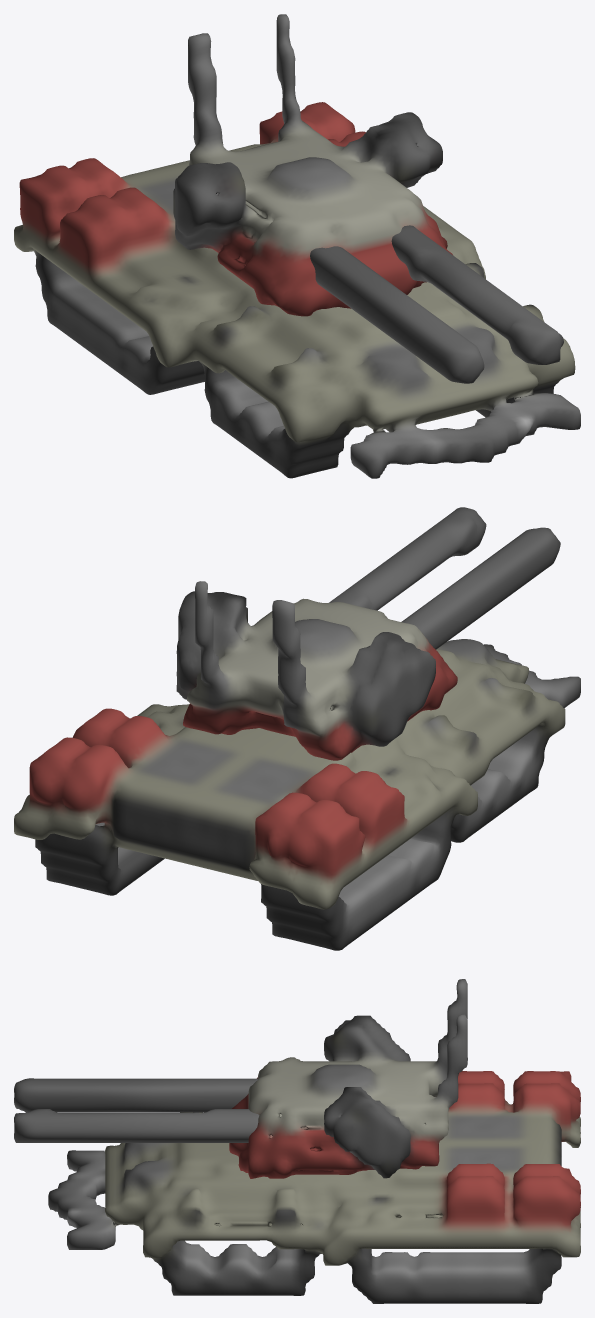
Rendered from apoc.glb.
3 renders of one model, top to bottom at view 1: azimuth 30°, elevation 25°; view 2: azimuth 150°, elevation 25°; view 3: azimuth 270°, elevation 25°, orthographic. The views are drawn at different scales.
Visible parts, largest first — view 1: apoc; view 2: apoc; view 3: apoc.
Part boxes in pixels (box(x1,y1,x2,y2)): apoc: box(14, 14, 580, 478); apoc: box(14, 507, 580, 950); apoc: box(14, 979, 580, 1303).
Size of the model in its own units: 2.66 by 2.35 by 4.91.
